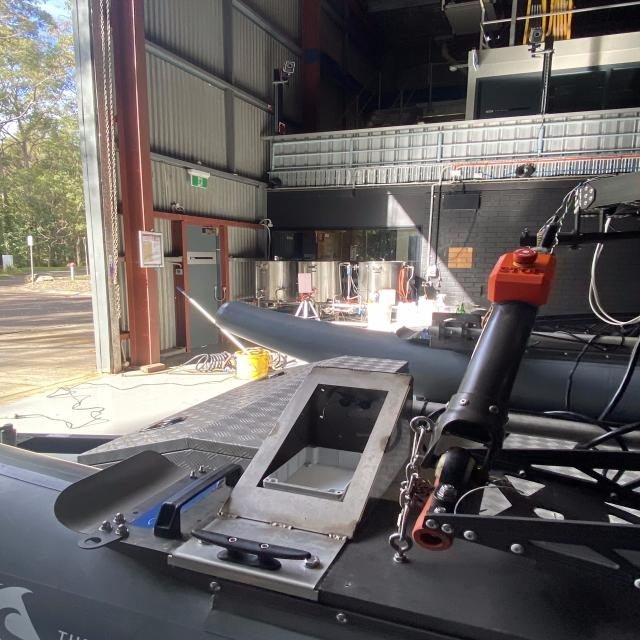matrix: (289, 269, 318, 299)
